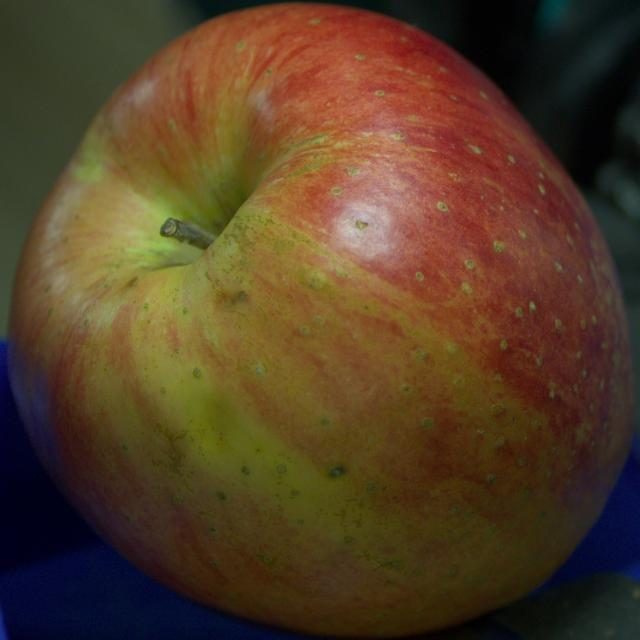apple: (8, 4, 632, 637)
pest: (328, 465, 346, 478)
